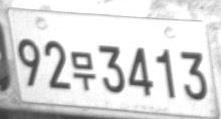1: (153, 49, 177, 98)
2: (44, 40, 71, 89)
3: (98, 44, 125, 93), (180, 51, 207, 100)
4: (127, 47, 153, 95)
9: (17, 37, 40, 86)
무: (71, 50, 95, 90)
